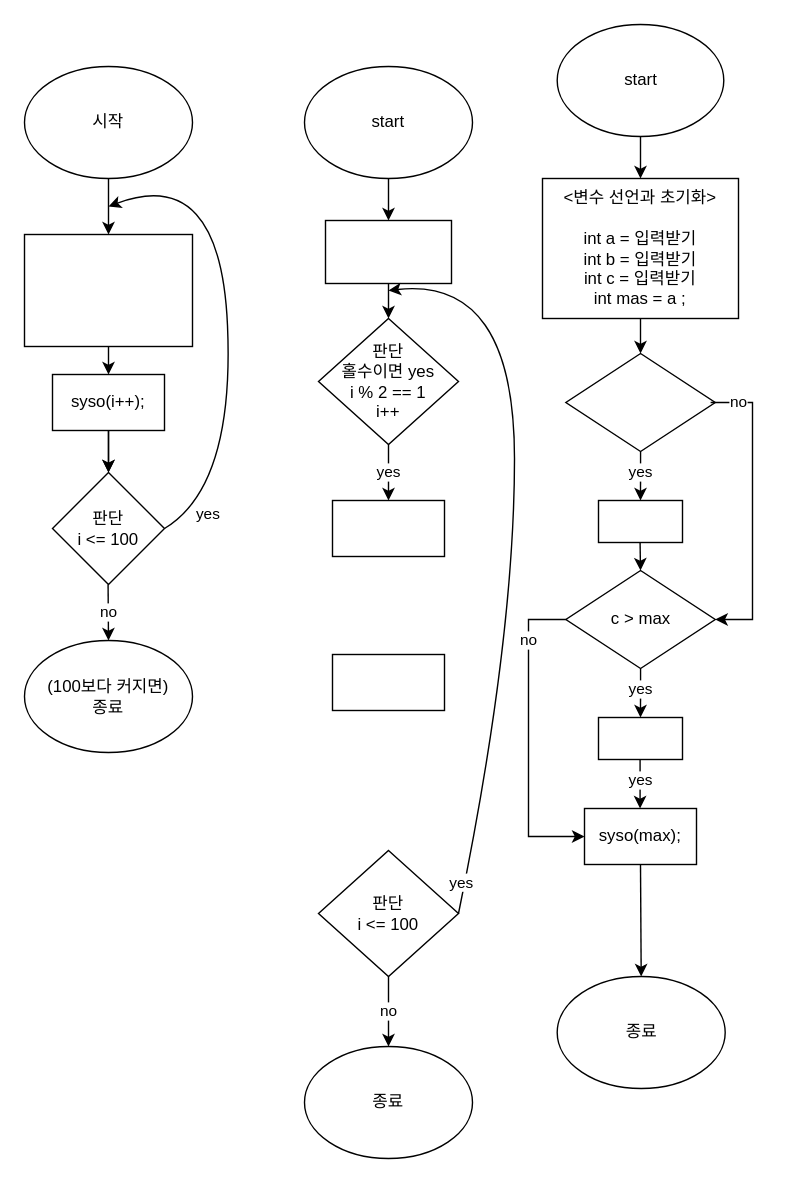
This 788x1183 diagram has some shape labels left out. The centre of each missing label's shape, as x and y in pixels:
"b > max" belongs at (639,401).
"i++" belongs at (387,681).
"int i = 1;" belongs at (387,251).
"max = b;" belongs at (639,520).
"max = c;" belongs at (639,738).
"syso(i)" belongs at (387,527).
"맨처음에 하는 것 : 변수 선언이랑 초기화 int i =1;" belongs at (107,289).
